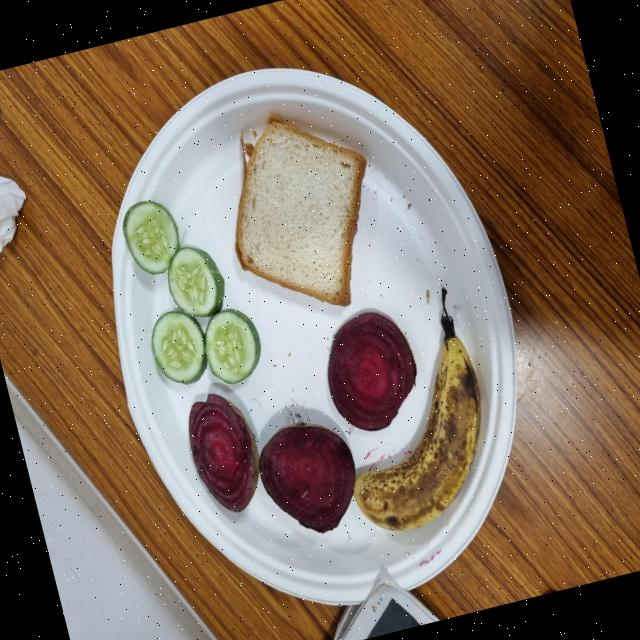banana: (113, 463, 306, 640)
beet: (187, 445, 285, 566), (101, 343, 186, 471), (105, 256, 198, 346)
cucumber: (205, 289, 266, 365), (197, 220, 259, 294), (281, 200, 341, 275), (252, 251, 311, 326)
